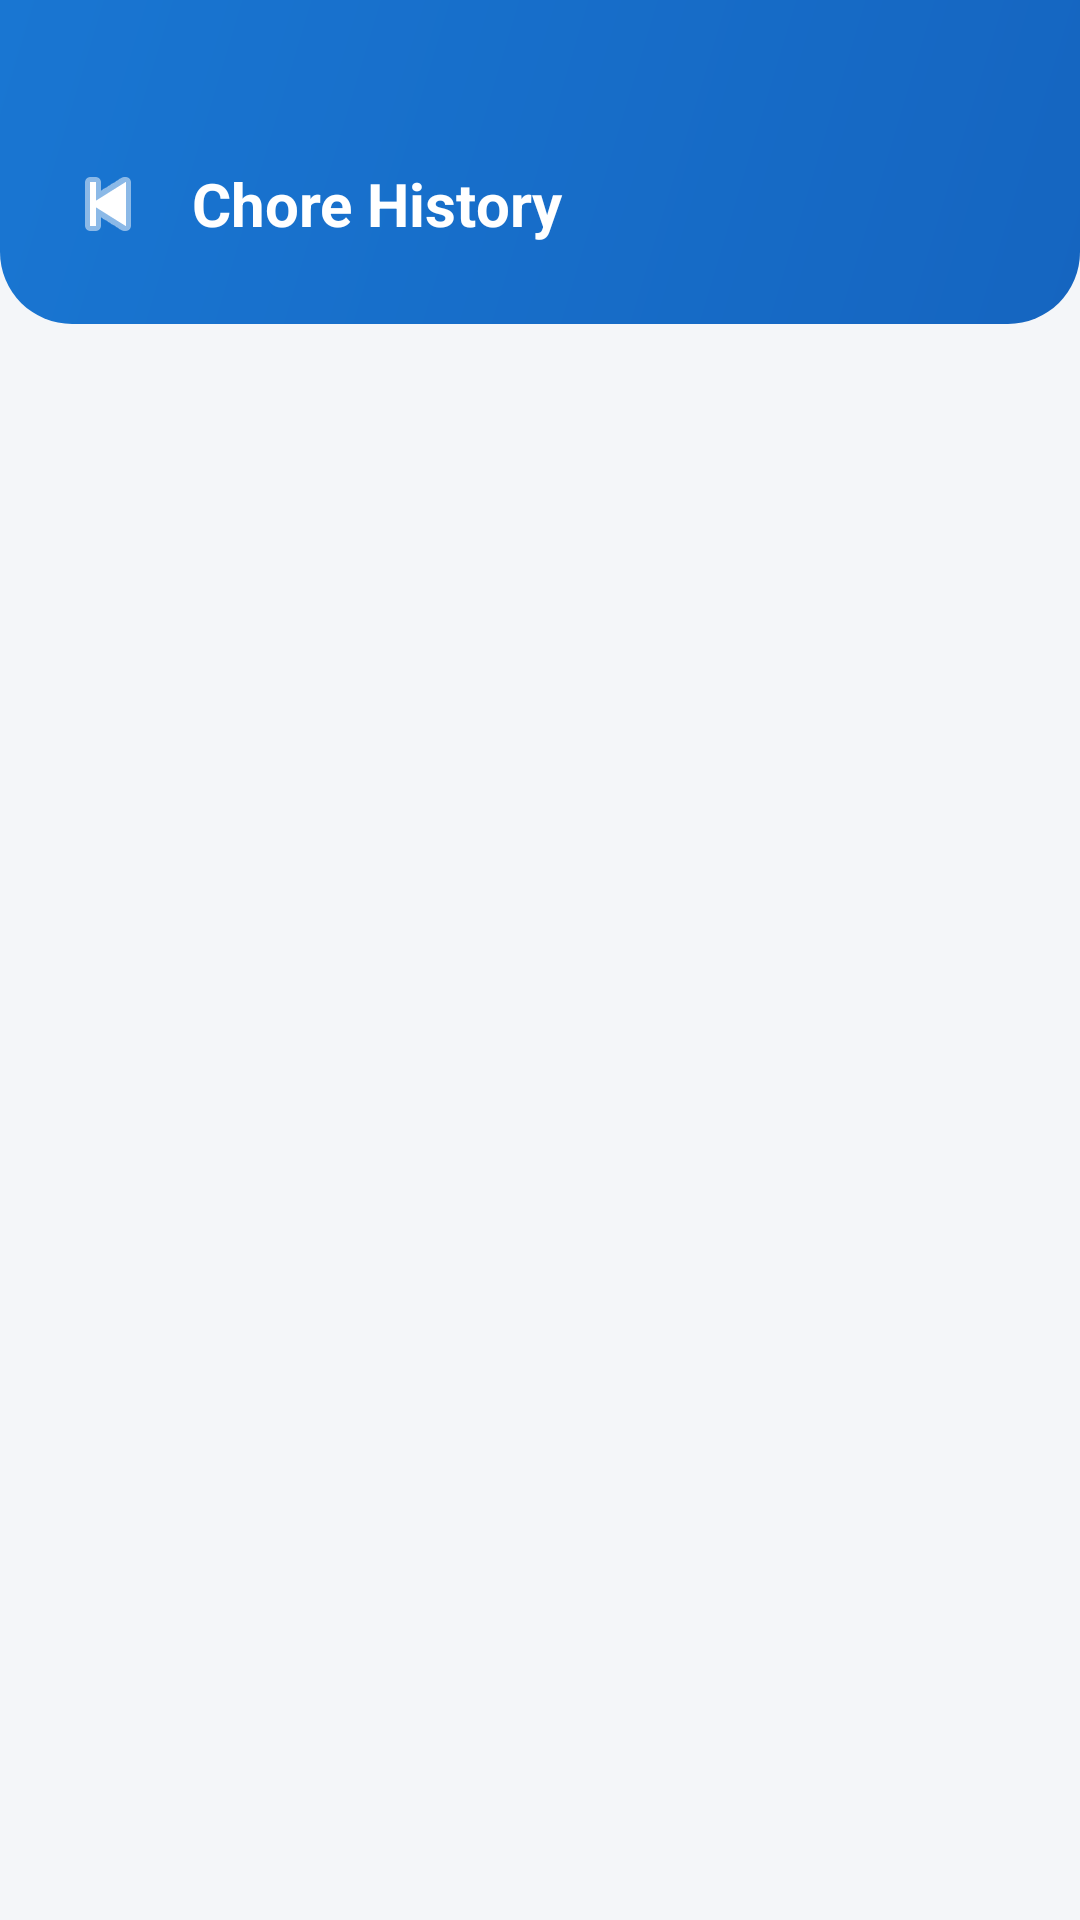

Icons on this 1080px x 1920px Android screen, each with its box as Rect(x1, y1, x2, y2):
Back: Rect(85, 177, 131, 231)
